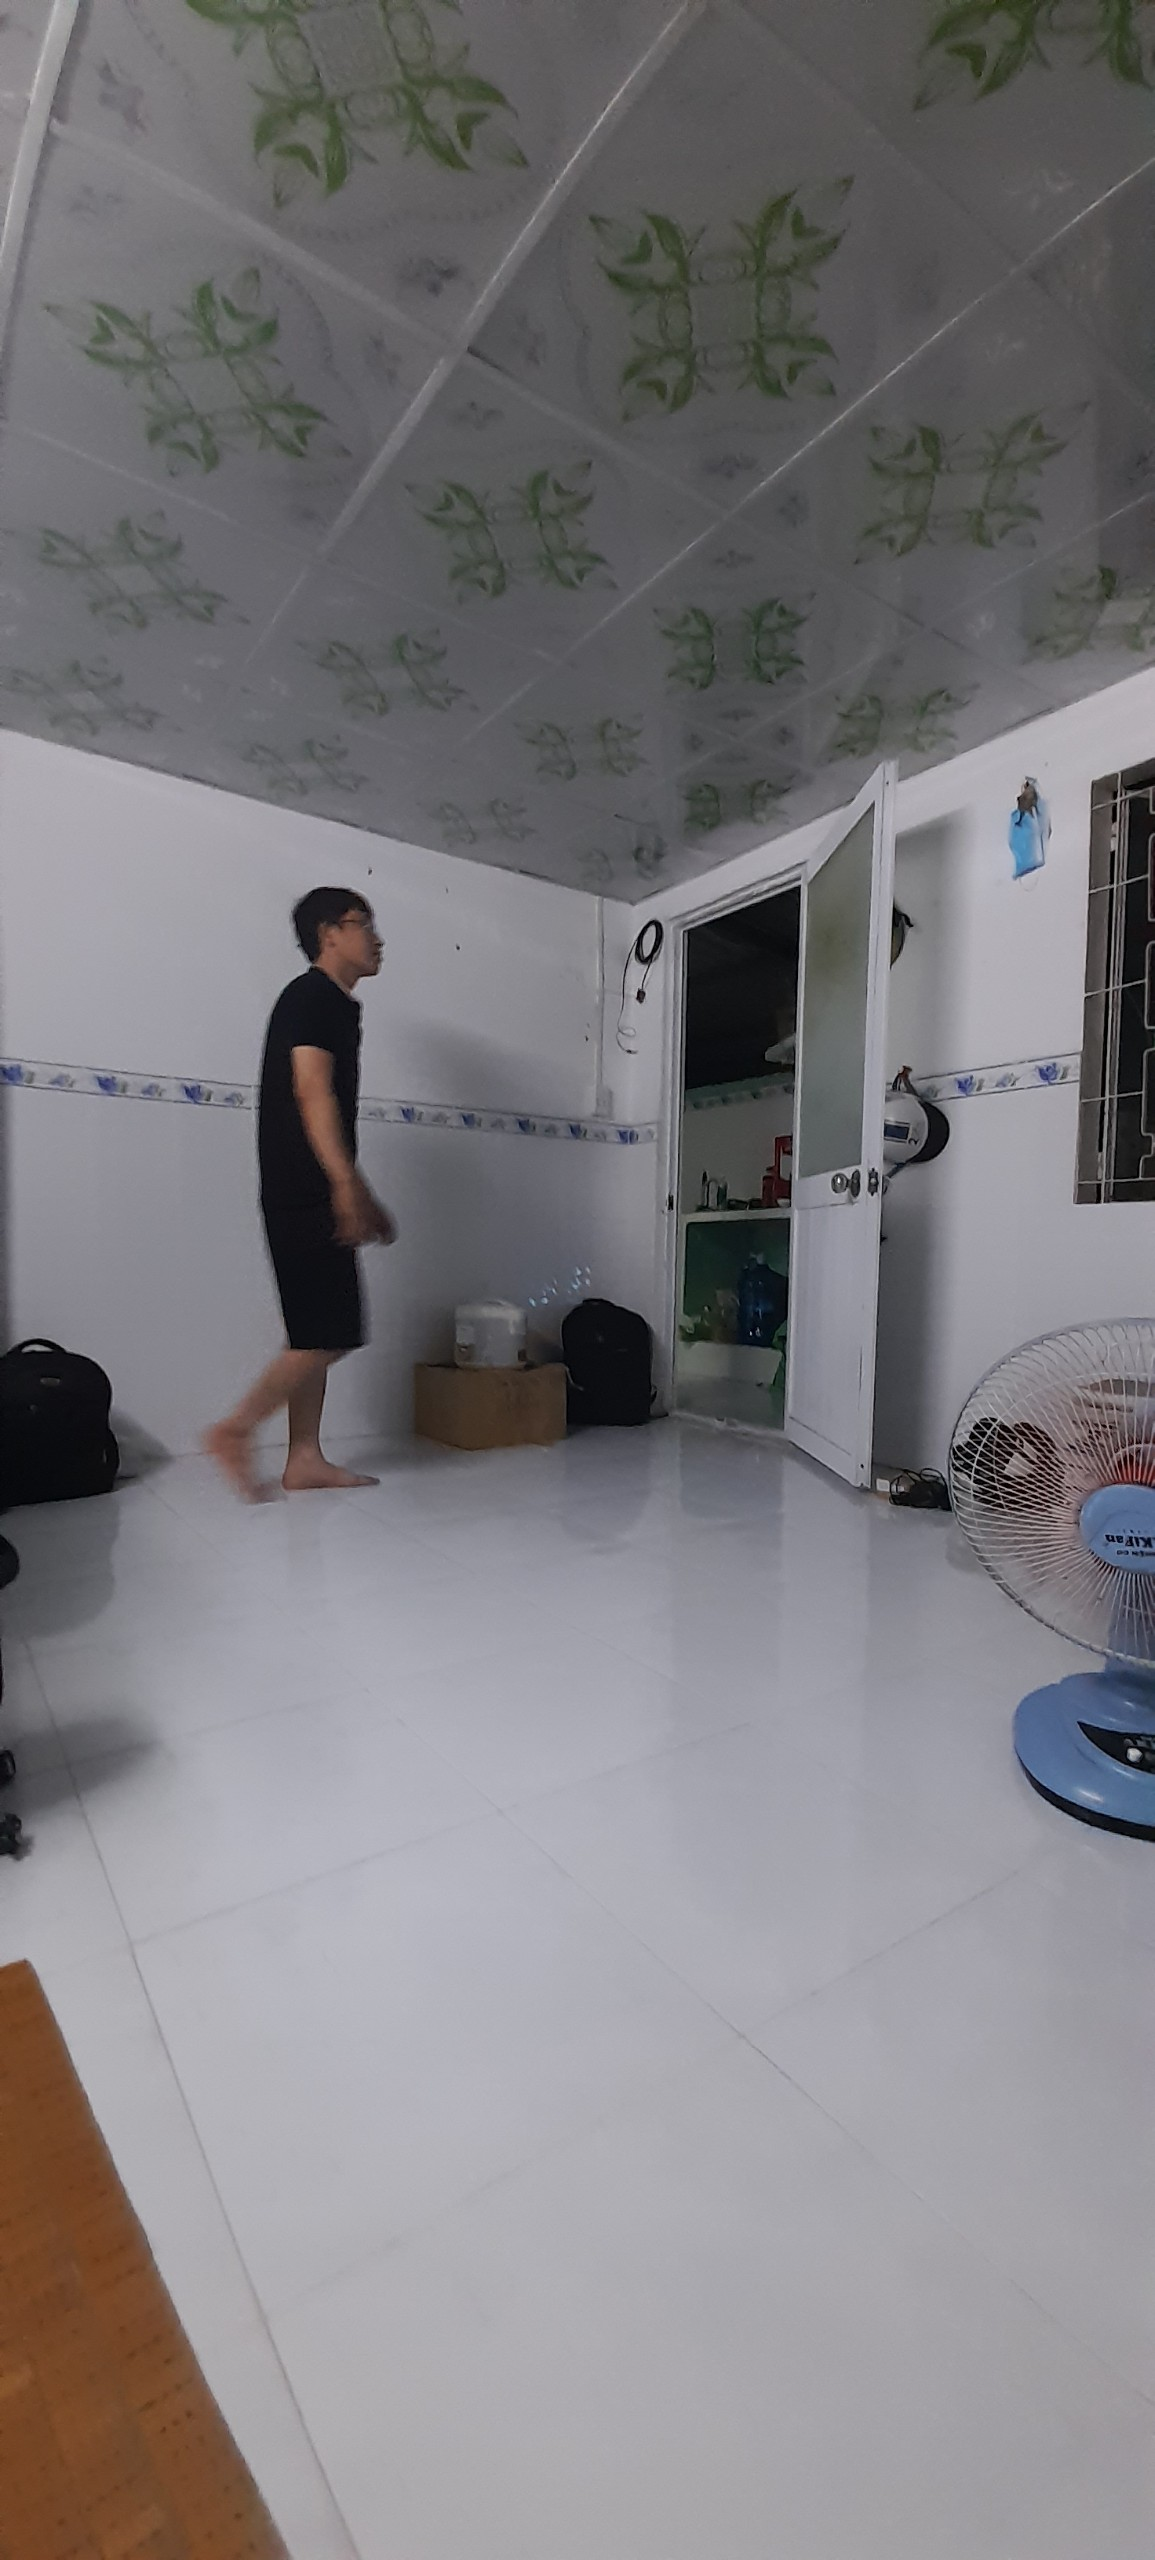person: (241, 884, 398, 1495)
